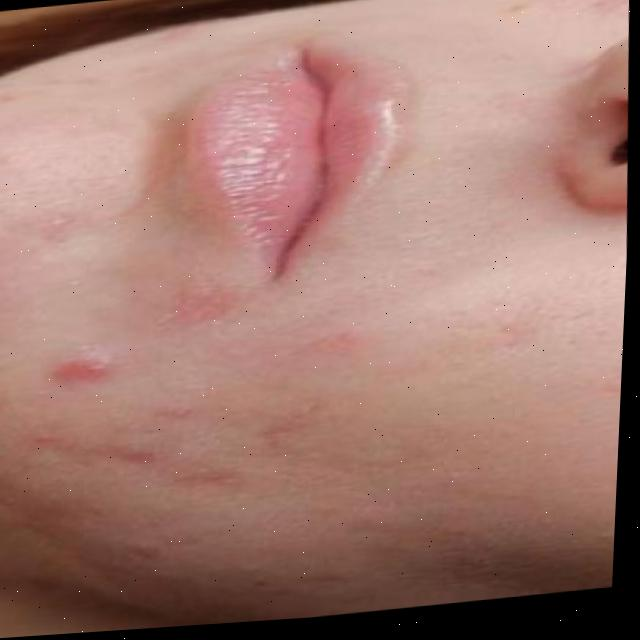Acne: (0, 167, 631, 621)
